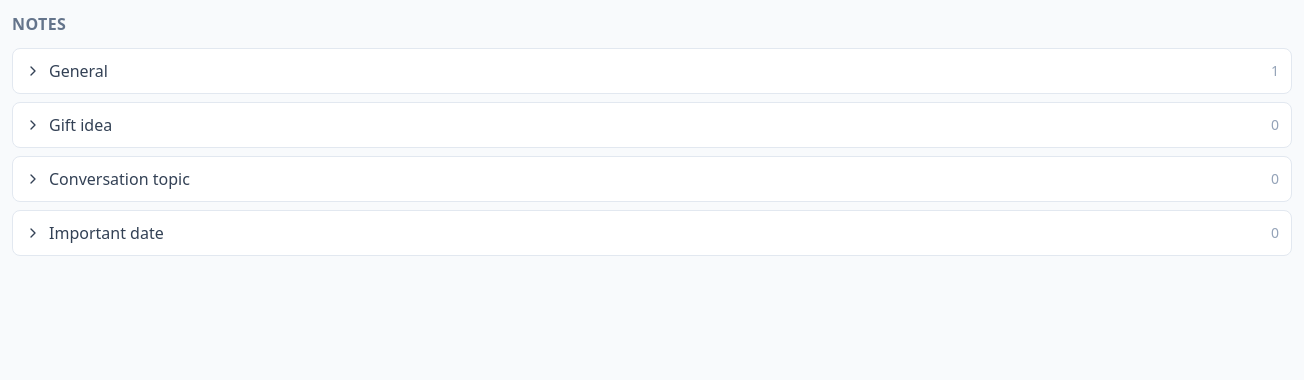
EntityNotes › shows the notes but none of their controls outside edit mode
This screenshot has width=1304, height=380.
Click the button "General 1" at [78, 71], box [13,49,1291,93]
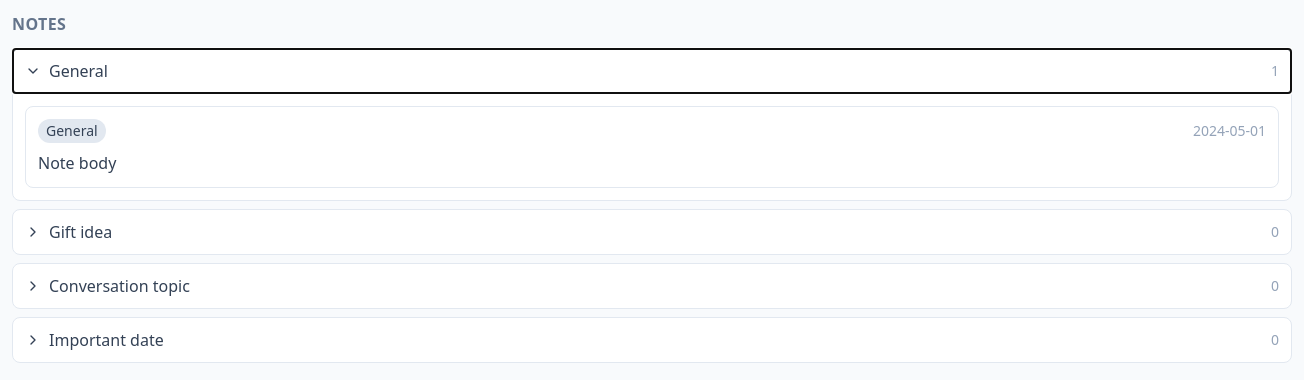
Expected: the text "Note body" is shown, [38,152,116,174]
